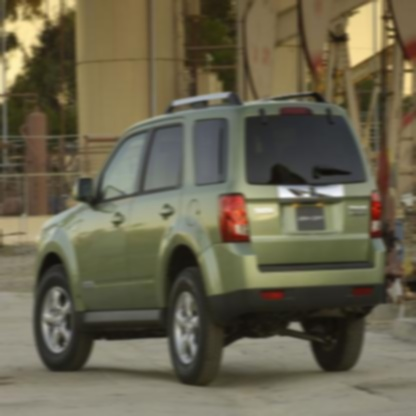Vehicle: (34, 93, 386, 383)
